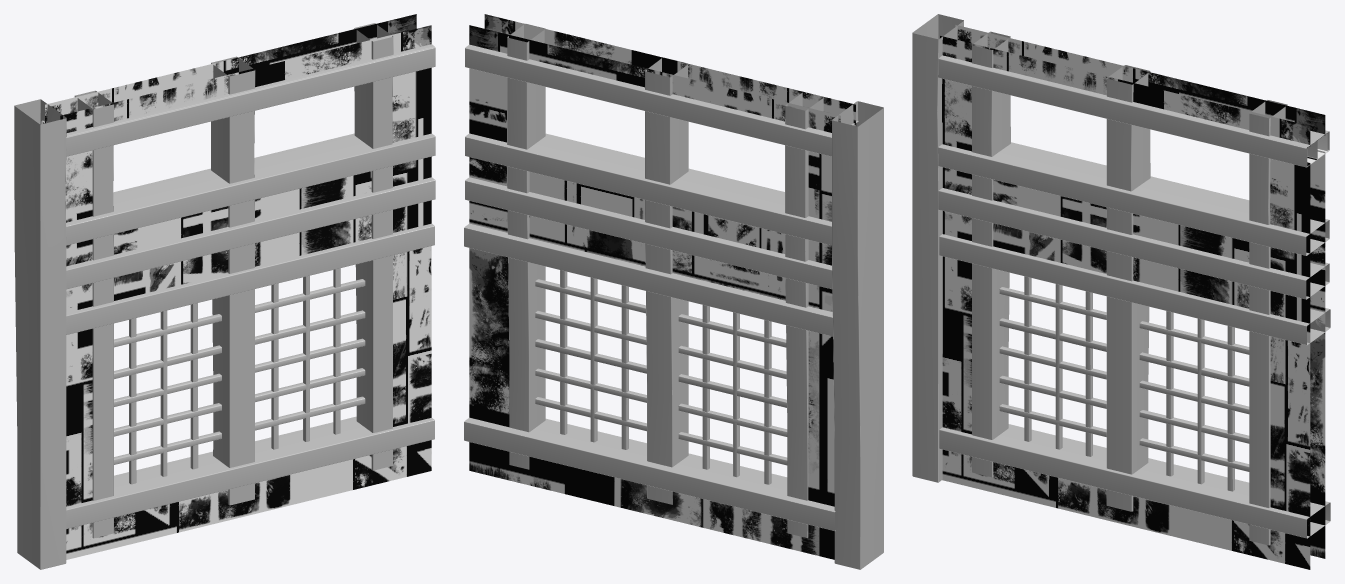
File: SM_wall01_Wall_019.fbx
3 renders of one model, left to right at view 1: azimuth 30°, elevation 25°; view 2: azimuth 150°, elevation 25°; view 3: azimuth 330°, elevation 25°, orthographic.
Parts seen in each view (by area): view 1: SM_wall01_Wall_019_LOD0; view 2: SM_wall01_Wall_019_LOD0; view 3: SM_wall01_Wall_019_LOD0.
Part boxes in pixels (x1,y1,x2,y2): SM_wall01_Wall_019_LOD0: [14, 14, 435, 569]; SM_wall01_Wall_019_LOD0: [464, 14, 883, 569]; SM_wall01_Wall_019_LOD0: [912, 14, 1330, 569].
Bounding box in the file's own units: 300 × 34.31 × 323.
